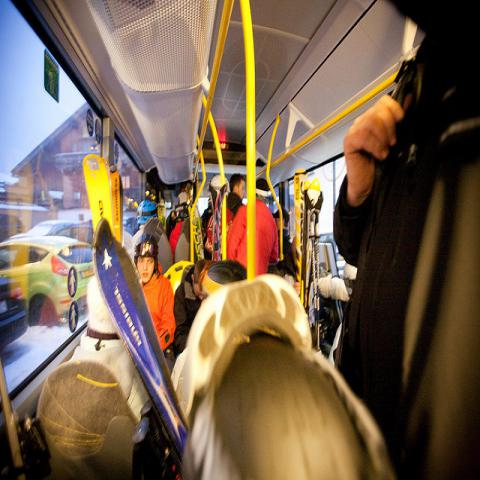car: (0, 234, 96, 327), (9, 218, 92, 244), (0, 275, 27, 351)
